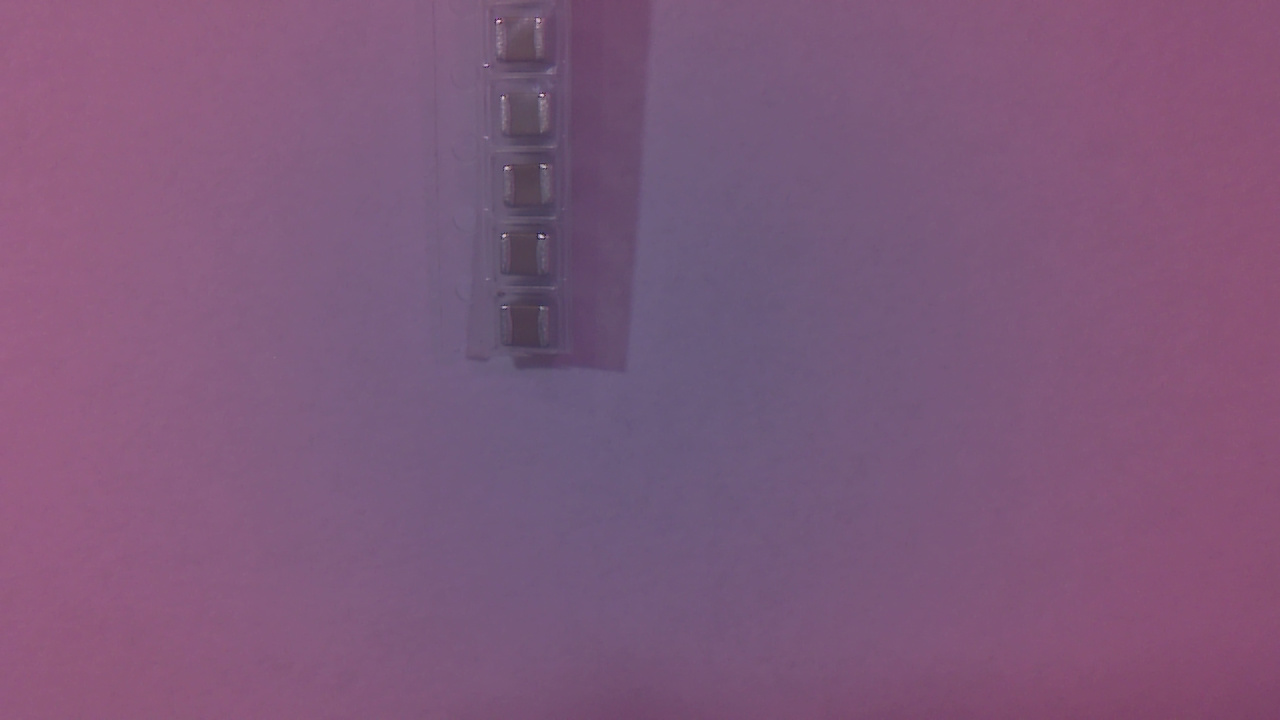Condensator: (501, 94, 558, 143), (508, 166, 564, 214), (498, 21, 555, 68), (502, 232, 557, 280), (506, 308, 558, 349)
